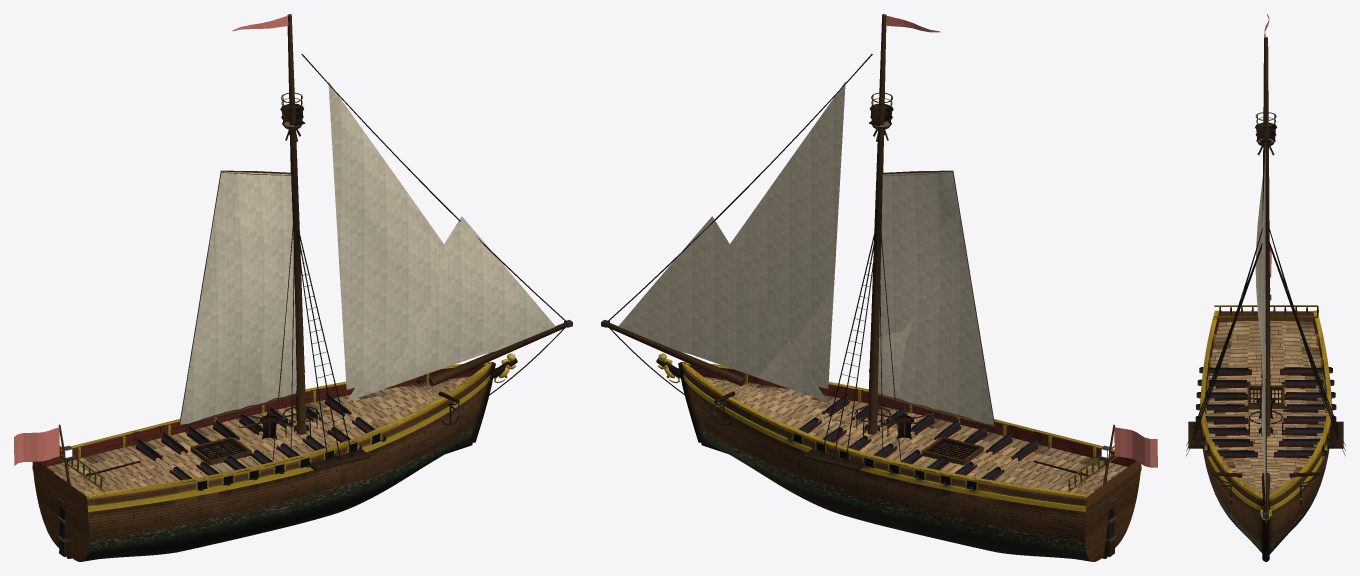
Rendered from sloop.glb.
3 renders of one model, left to right at view 1: azimuth 30°, elevation 25°; view 2: azimuth 150°, elevation 25°; view 3: azimuth 270°, elevation 25°, orthographic. The views are drawn at different scales.
Visible parts, largest first — view 1: LOD0_Jib, LOD0_Body, LOD0_m0_AftSail, LOD0_Wood, LOD2_Body, LOD2_Wood, LOD1_Jib, LOD1_Wood, LOD1_m0_AftSail, LOD2_m0_AftSail, LOD0_Flag, LOD1_Body; view 2: LOD2_Jib, LOD0_Body, LOD2_m0_AftSail, LOD0_Wood, LOD2_Body, LOD2_Wood, LOD1_Jib, LOD1_Wood, LOD0_m0_AftSail, LOD0_Flag, LOD1_Body, LOD1_m0_AftSail; view 3: LOD2_Body, LOD0_Wood, LOD0_Body, LOD2_Wood, LOD1_Wood, LOD0_Jib, LOD0_m0_AftSail, LOD1_Body, LOD1_Jib.
Part boxes in pixels (bbox=[...]): LOD0_Jib: bbox=[328, 81, 542, 401]; LOD0_Body: bbox=[32, 103, 516, 561]; LOD0_m0_AftSail: bbox=[184, 172, 295, 423]; LOD0_Wood: bbox=[32, 14, 572, 561]; LOD2_Body: bbox=[46, 364, 490, 559]; LOD2_Wood: bbox=[37, 19, 562, 559]; LOD1_Jib: bbox=[328, 82, 555, 401]; LOD1_Wood: bbox=[33, 15, 565, 560]; LOD1_m0_AftSail: bbox=[180, 172, 295, 424]; LOD2_m0_AftSail: bbox=[180, 171, 296, 424]; LOD0_Flag: bbox=[14, 16, 288, 465]; LOD1_Body: bbox=[85, 121, 491, 560]; LOD2_Jib: bbox=[618, 81, 845, 400]; LOD0_Body: bbox=[657, 103, 1141, 561]; LOD2_m0_AftSail: bbox=[879, 172, 993, 424]; LOD0_Wood: bbox=[601, 14, 1141, 561]; LOD2_Body: bbox=[683, 364, 1127, 559]; LOD2_Wood: bbox=[612, 15, 1136, 558]; LOD1_Jib: bbox=[658, 107, 844, 401]; LOD1_Wood: bbox=[609, 15, 1140, 560]; LOD0_m0_AftSail: bbox=[877, 171, 987, 423]; LOD0_Flag: bbox=[886, 15, 1157, 467]; LOD1_Body: bbox=[682, 121, 1088, 560]; LOD1_m0_AftSail: bbox=[879, 171, 993, 423]; LOD2_Body: bbox=[1205, 321, 1326, 554]; LOD0_Wood: bbox=[1188, 37, 1343, 561]; LOD0_Body: bbox=[1186, 124, 1345, 553]; LOD2_Wood: bbox=[1200, 37, 1331, 547]; LOD1_Wood: bbox=[1200, 37, 1331, 561]; LOD0_Jib: bbox=[1261, 143, 1265, 464]; LOD0_m0_AftSail: bbox=[1255, 179, 1262, 342]; LOD1_Body: bbox=[1202, 139, 1330, 553]; LOD1_Jib: bbox=[1262, 242, 1265, 500].
Bounding box in the file's own units: 27.56 × 23.72 × 7.37.
Materials: 5 (3 with a texture image).
